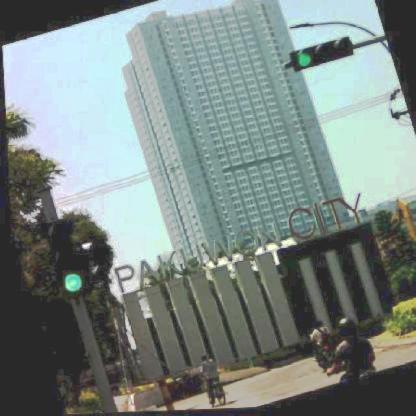Traffic Light -Green-: (39, 214, 89, 302), (288, 36, 356, 75)
